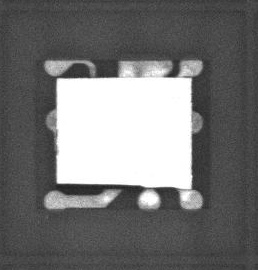DIE_BROKEN: (55, 182, 181, 189)
